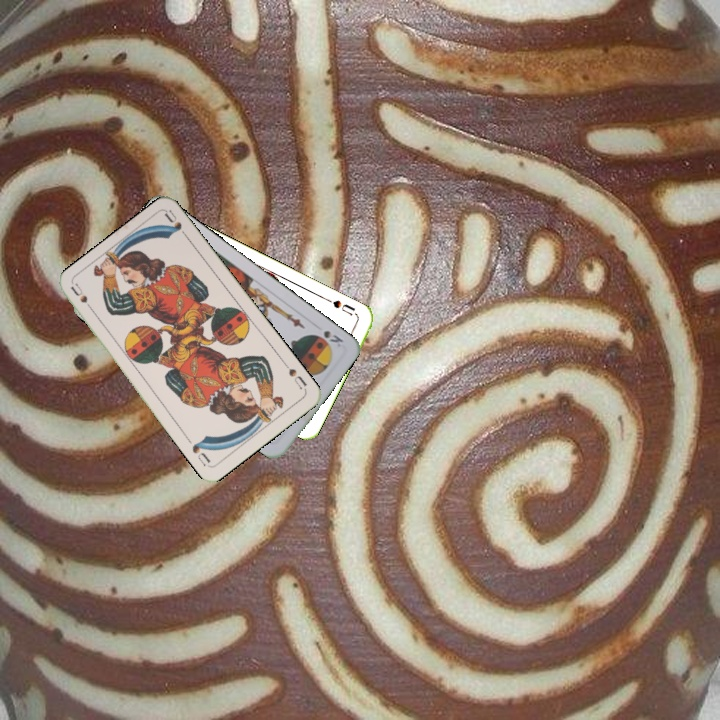SK: (319, 326, 346, 350)
SU: (67, 280, 98, 317), (279, 358, 310, 392), (322, 294, 358, 318)
